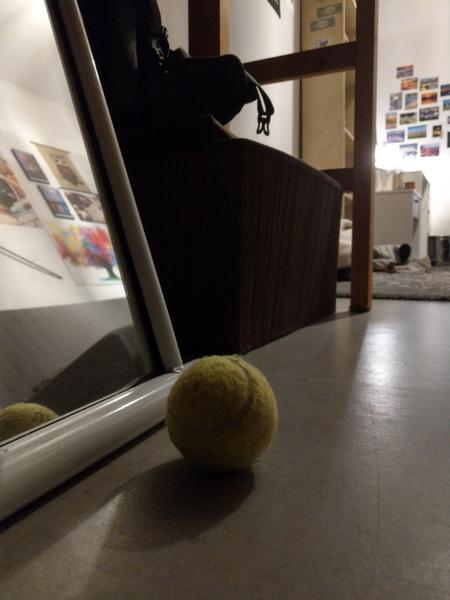Tennisball: (165, 351, 281, 475)
